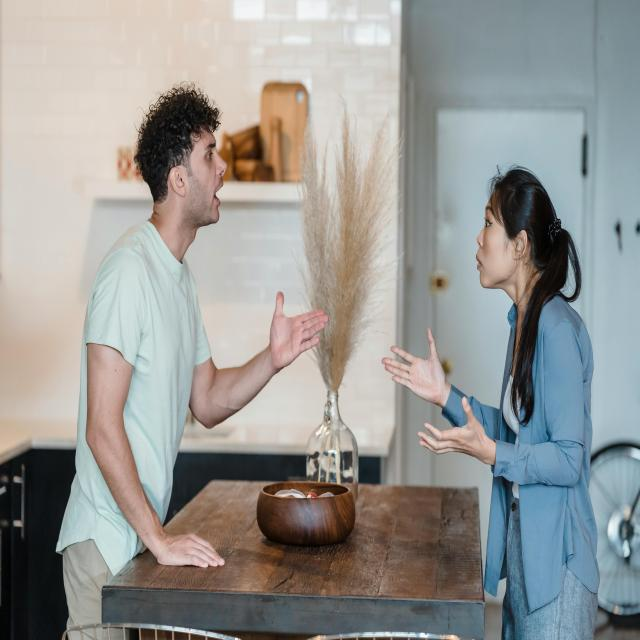stand: (46, 79, 230, 640), (475, 151, 610, 640)
